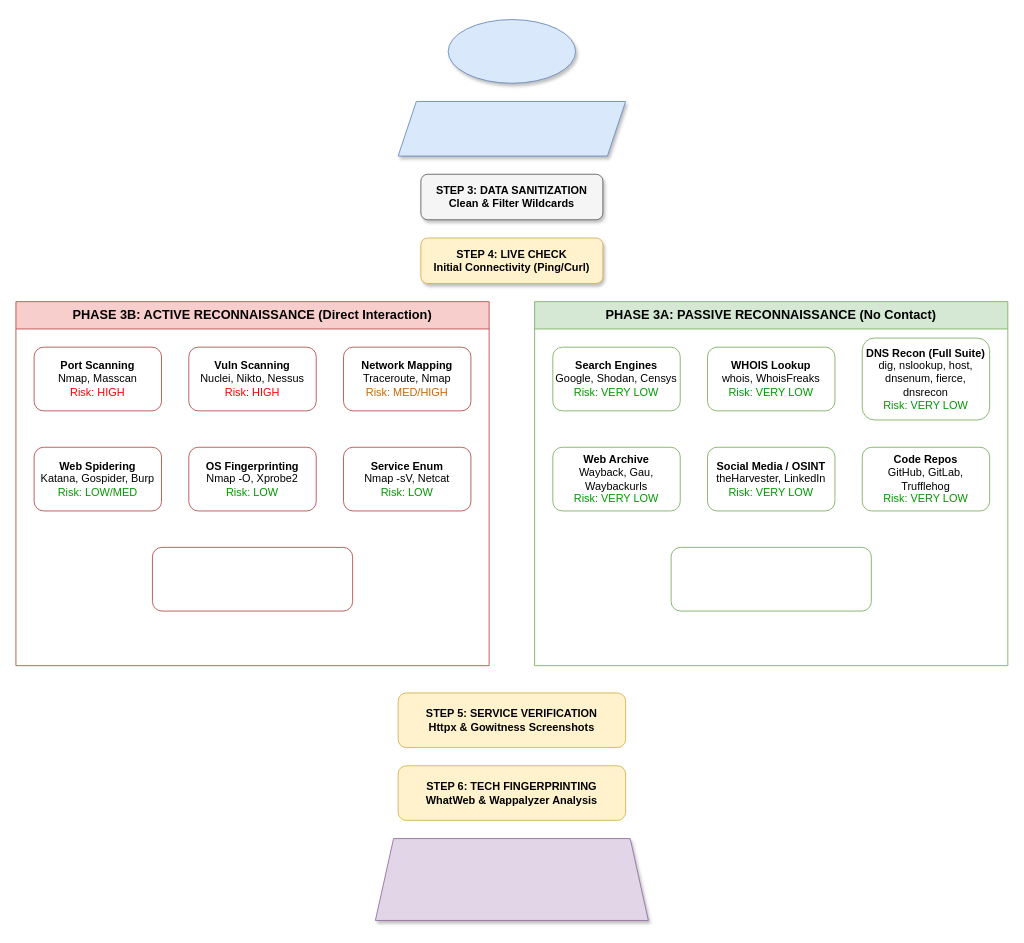
The diagram is 1024 pixels wide and 943 high, and some of its shapes have lost their labels. The centre of each missing label's shape, as x and y in pixels:
Active Subdomain ffuf, feroxbuster, dirsearch Risk: MED: point 252,578
Cloud & Bucket Recon CloudEnum, S3Scanner Risk: VERY LOW: point 770,578
STEP 1: START Initialize AI Agent: point 512,52
STEP 2: SCOPE DEFINITION In-Scope vs Out-of-Scope: point 512,129
STEP 7: FINAL AI ANALYSIS STRATEGY SELECTION: point 512,880
